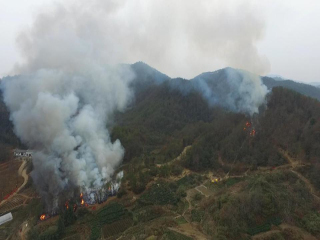smoke: (4, 11, 137, 206), (195, 6, 274, 119)
